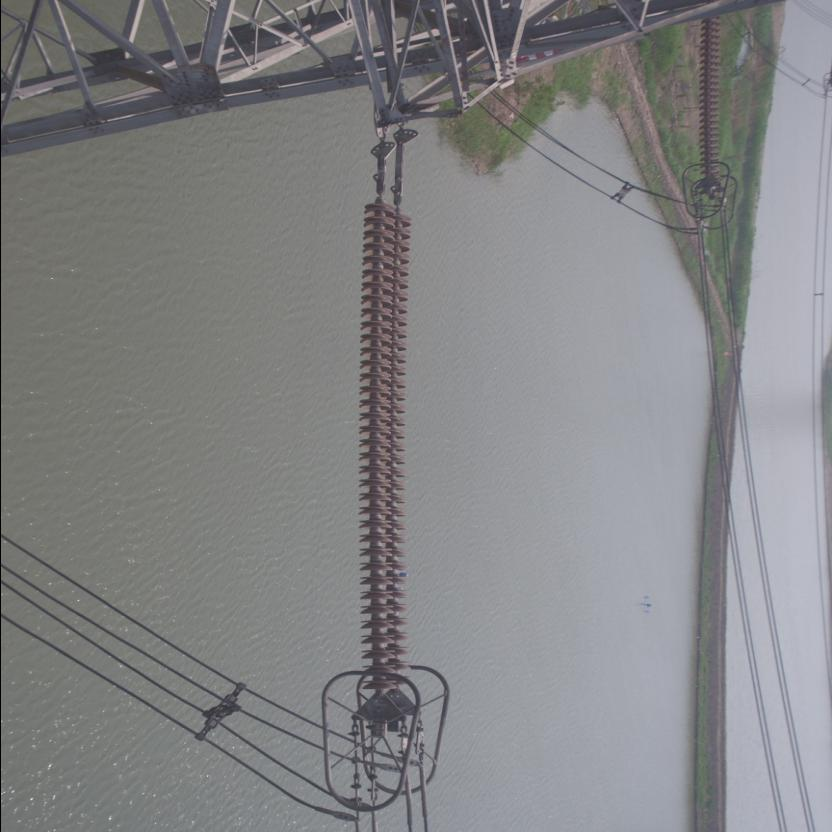insulator: (357, 171, 415, 701), (698, 16, 722, 182)
